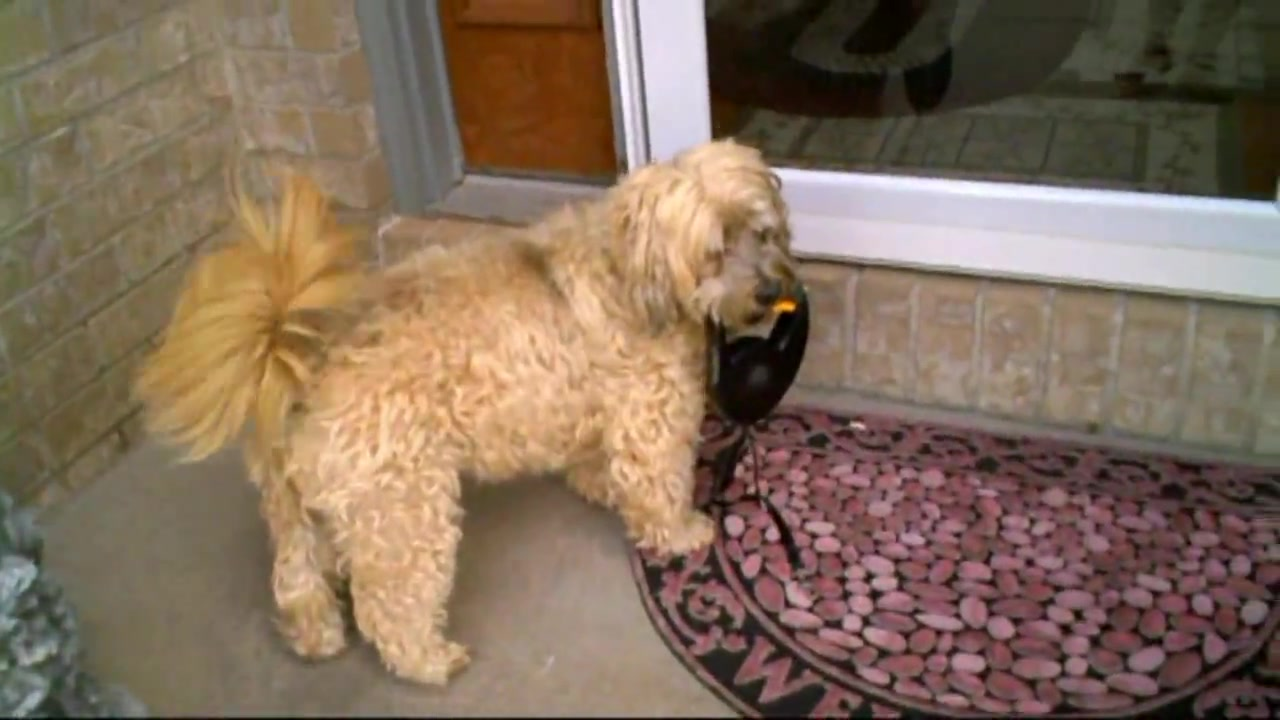dog: (131, 137, 792, 694)
